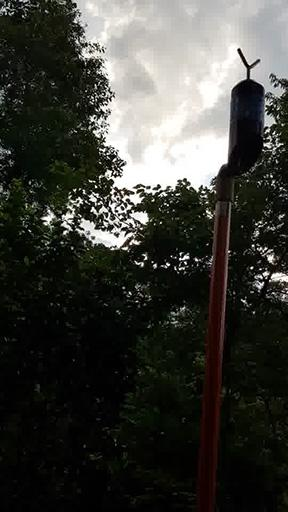Detector_Tensao_Contato: (226, 48, 264, 180)
Vara_Manobra: (200, 174, 238, 512)
